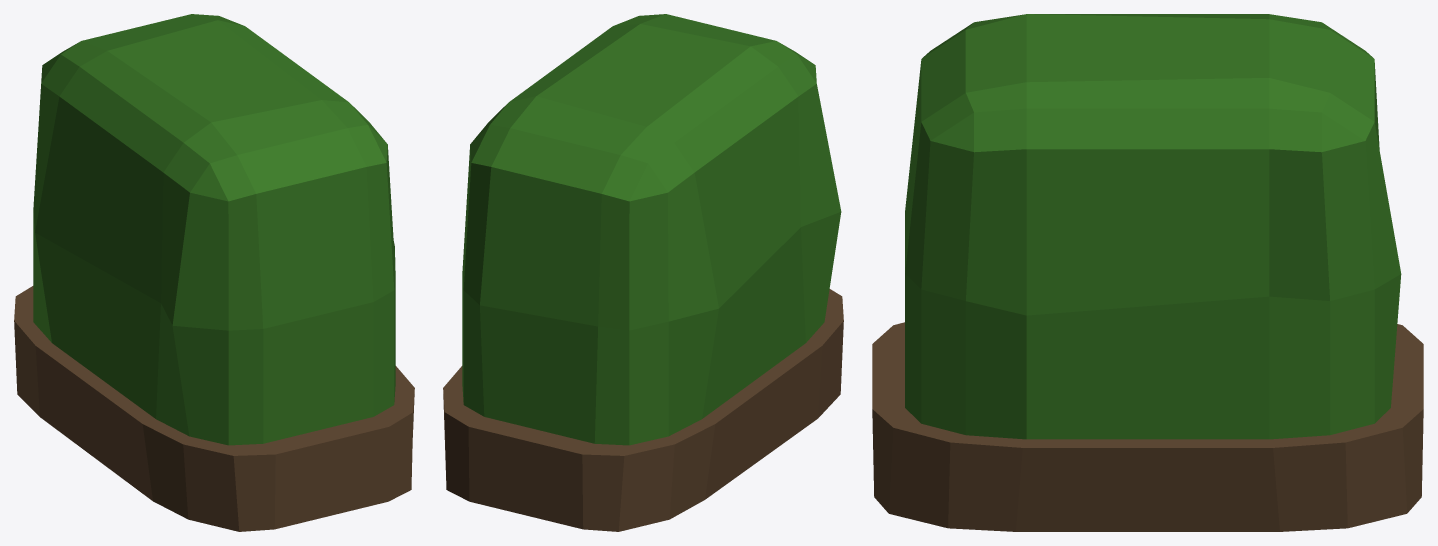
Rendered from Hedges_01.fbx.
3 renders of one model, left to right at view 1: azimuth 30°, elevation 25°; view 2: azimuth 150°, elevation 25°; view 3: azimuth 270°, elevation 25°, orthographic. The views are drawn at different scales.
Parts seen in each view (by area): view 1: polySurface8; view 2: polySurface8; view 3: polySurface8.
Boxes of the visible parts, left/top/right/bottom form: polySurface8: left=14, top=14, right=414, bottom=531; polySurface8: left=443, top=14, right=843, bottom=531; polySurface8: left=872, top=14, right=1423, bottom=531.
Bounding box in the file's own units: 121 × 163 × 194.
